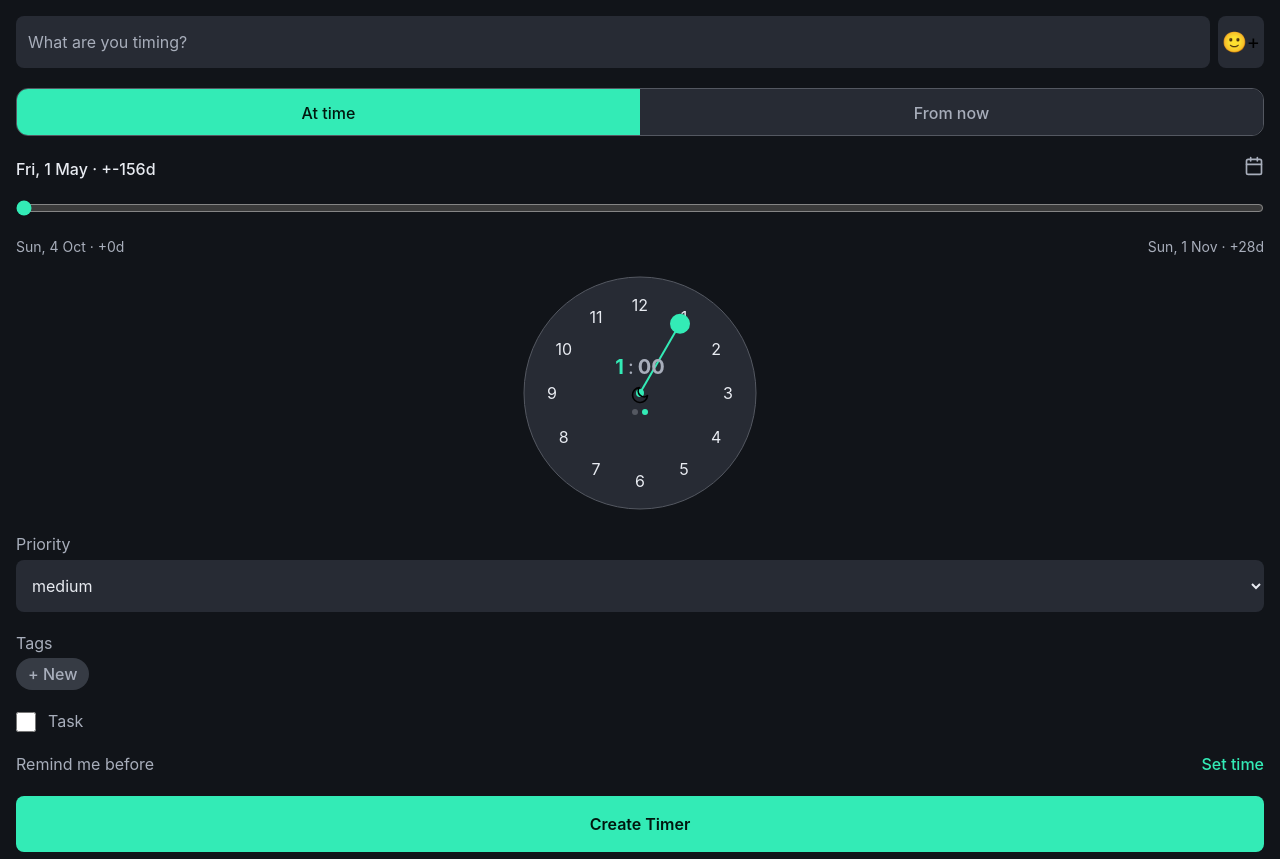
CreateTimerView — leadTimeMs › clicking Set time reveals the DurationPicker
Click the button "Set time" at (1233, 765), box top-left (1202, 753), bottom-right (1264, 776)
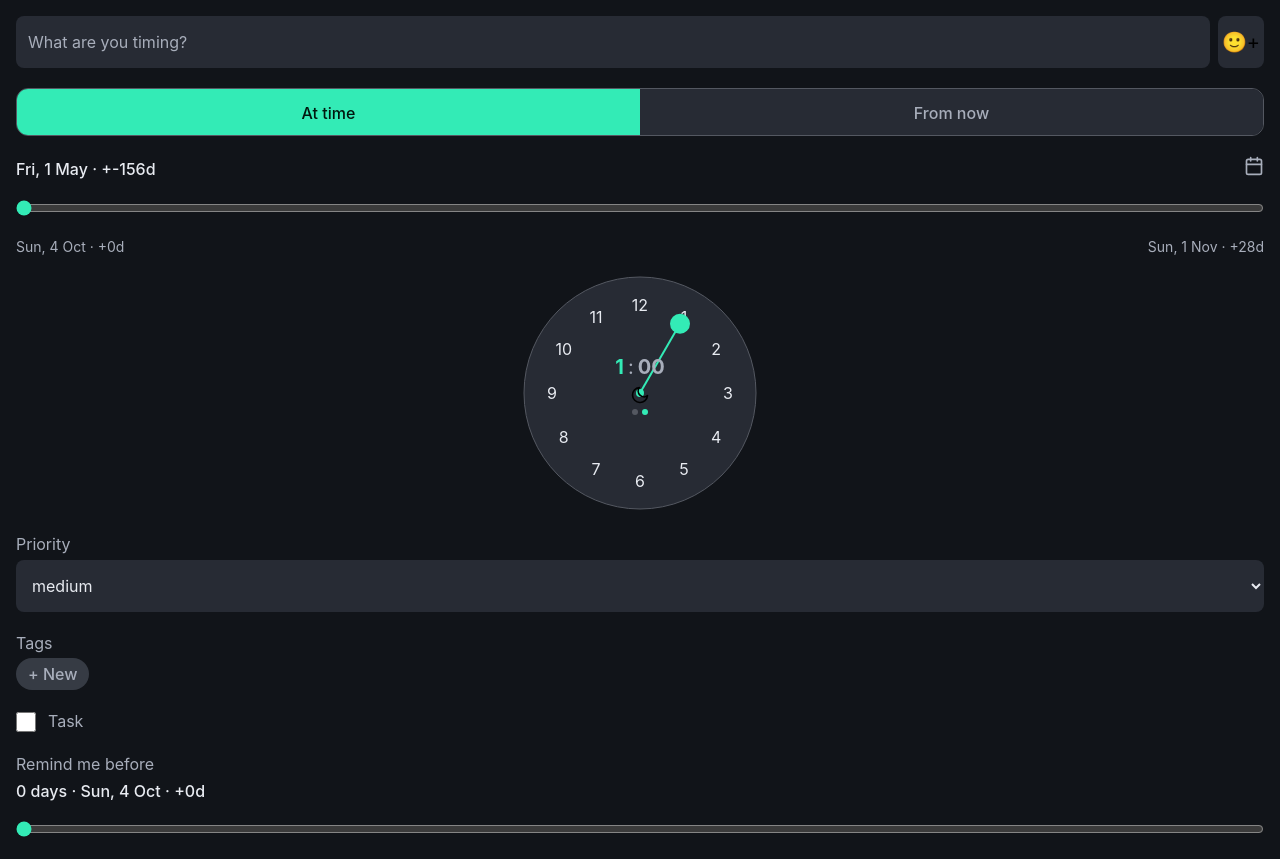
Now the slider named "days" is shown, box top-left (16, 821), bottom-right (1264, 837)
